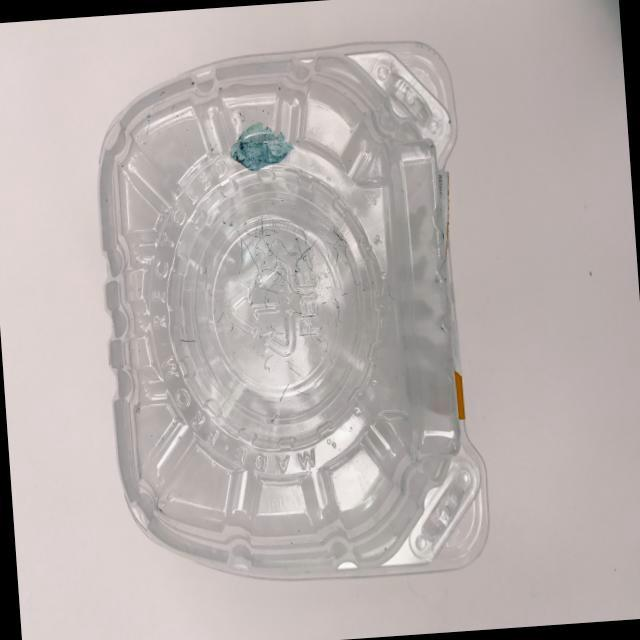plastic: (70, 16, 524, 607)
